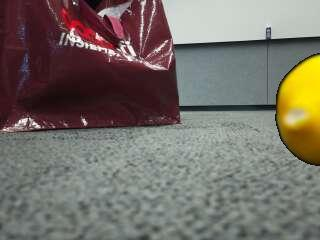lemon: (276, 48, 320, 166)
